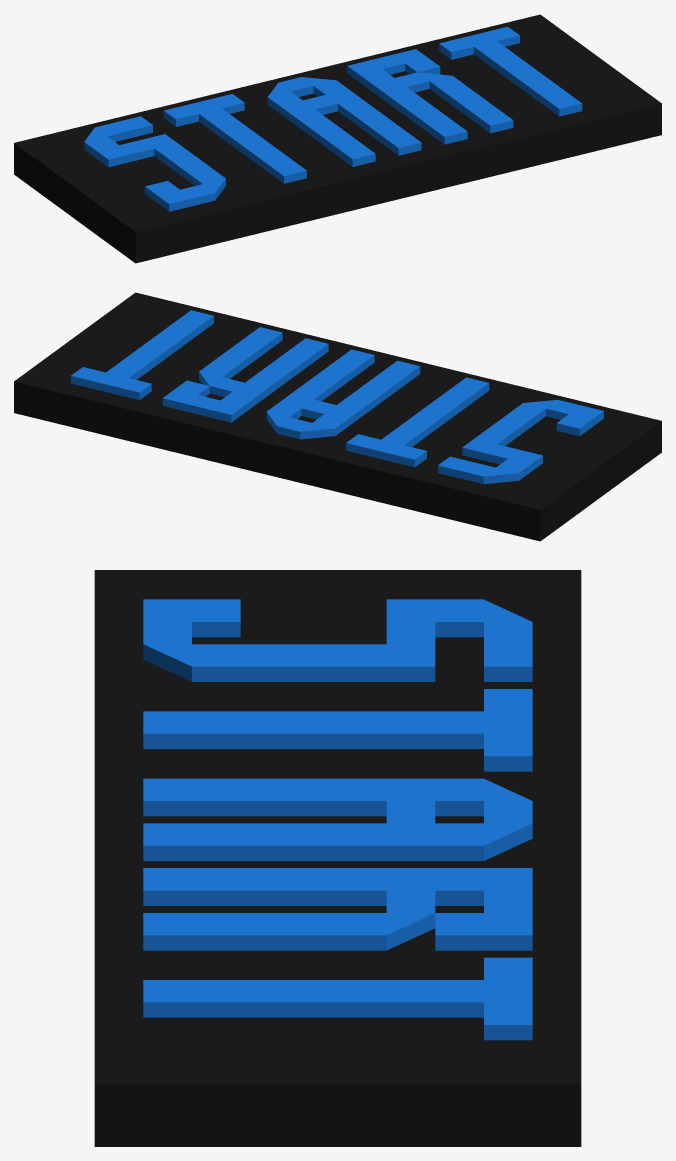
Rendered from StartButton.fbx.
3 renders of one model, top to bottom at view 1: azimuth 30°, elevation 25°; view 2: azimuth 150°, elevation 25°; view 3: azimuth 270°, elevation 25°, orthographic. The views are drawn at different scales.
Parts seen in each view (by area): view 1: Start; view 2: Start; view 3: Start.
Part boxes in pixels (box(x1,y1,x2,y2)): Start: box(14, 14, 661, 263); Start: box(14, 292, 661, 541); Start: box(94, 570, 581, 1146).
Size of the model in its own units: 84.36 by 6.01 by 33.75.
